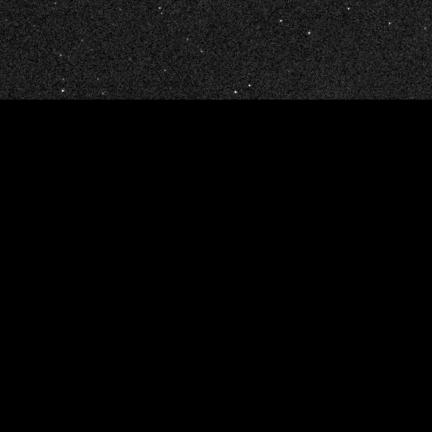blob: (235, 91, 238, 94)
